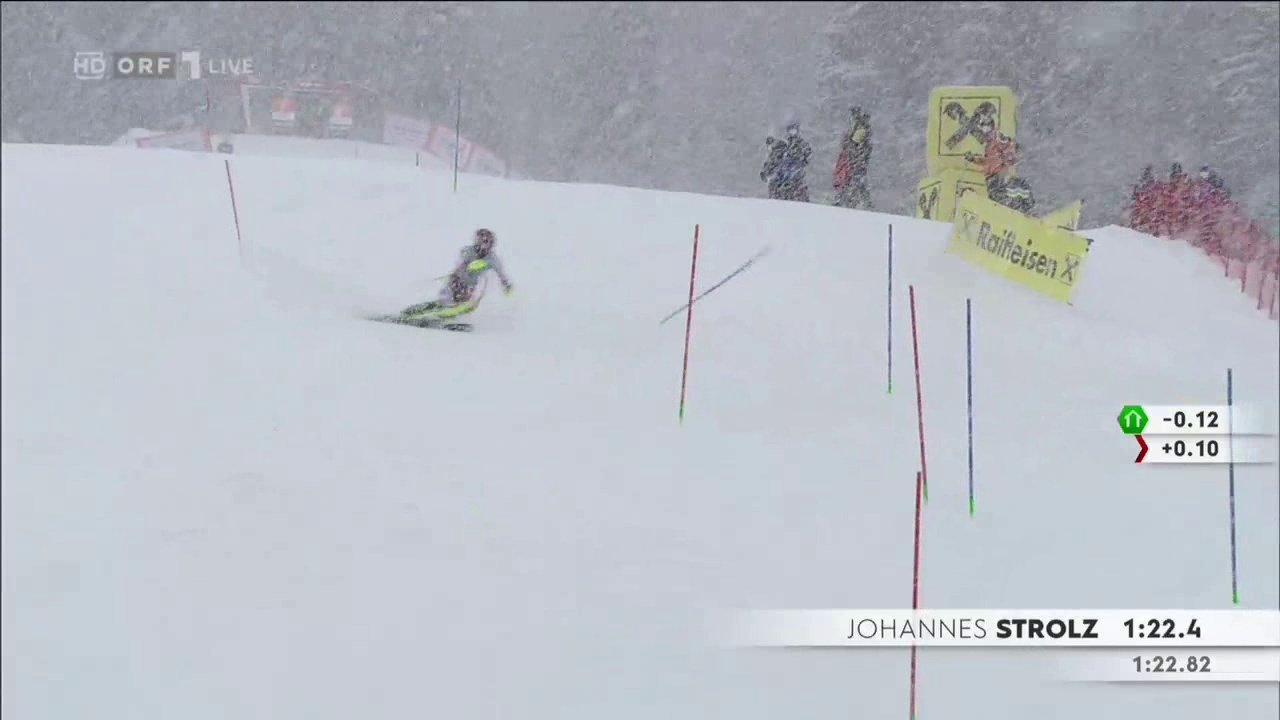raiffeisen: (957, 217, 1087, 291), (936, 97, 1004, 159)
